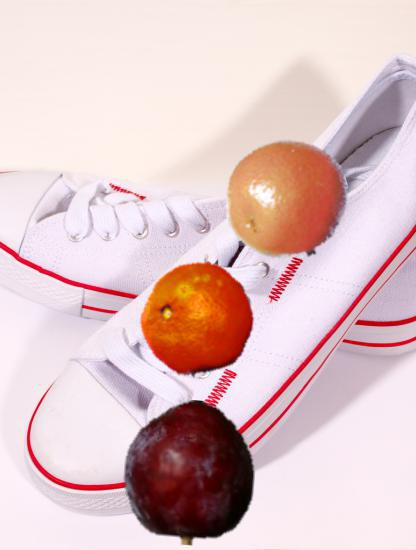Clementine: (137, 260, 257, 380)
Plum: (117, 400, 262, 545)
Tangelo: (224, 138, 351, 265)
